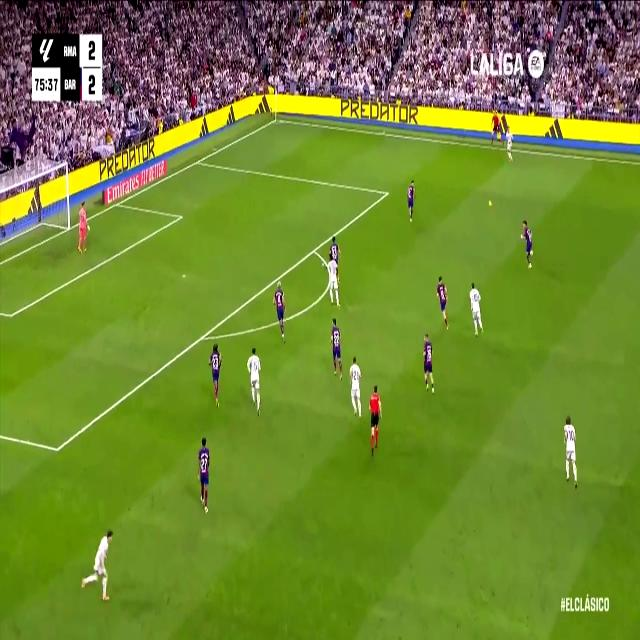bigarea_bottom_inner: (51, 435, 63, 463)
bigarea_top_inner: (382, 183, 390, 202)
bigarea_top_outter: (194, 154, 202, 169)
bottom_arc_area_intersection: (197, 326, 208, 346)
smallarea_bottom_inner: (6, 304, 16, 326)
smallarea_top_inner: (177, 209, 184, 224)
top_arc_area_intersection: (310, 241, 318, 258)
